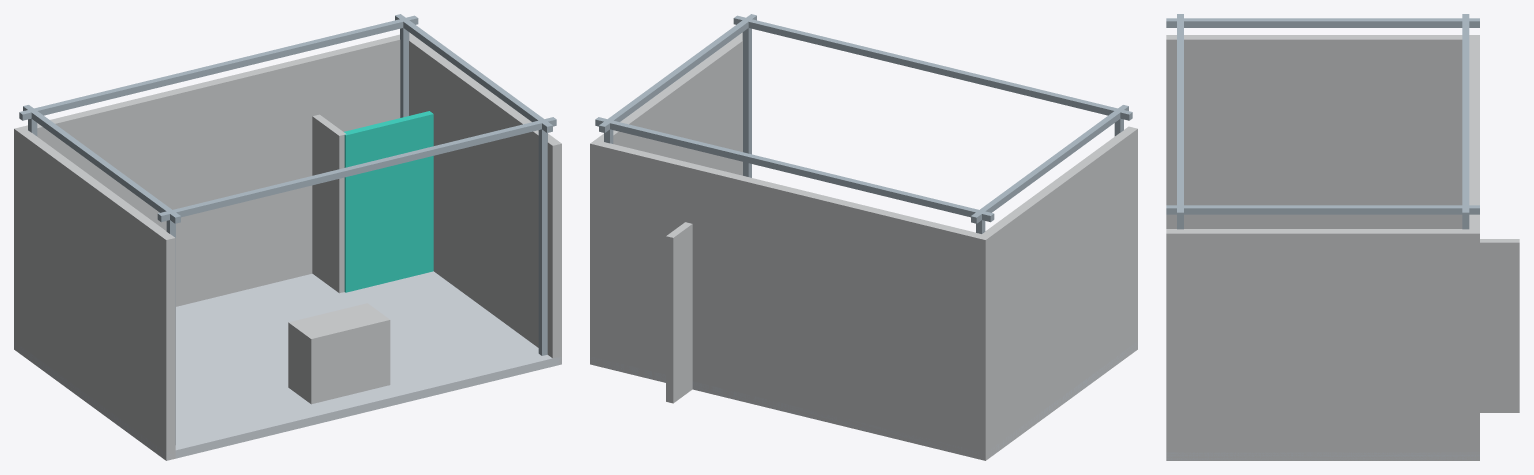
3 renders of one model, left to right at view 1: azimuth 30°, elevation 25°; view 2: azimuth 150°, elevation 25°; view 3: azimuth 270°, elevation 25°, orthographic. The views are drawn at different scales.
Parts seen in each view (by area): view 1: Exhibition Booth Concept; view 2: Exhibition Booth Concept; view 3: Exhibition Booth Concept.
Part boxes in pixels (x1,y1,x2,y2): Exhibition Booth Concept: [14, 14, 561, 460]; Exhibition Booth Concept: [590, 14, 1137, 460]; Exhibition Booth Concept: [1166, 14, 1519, 460].
Bounding box in the file's own units: 6 × 3.49 × 4.51.
